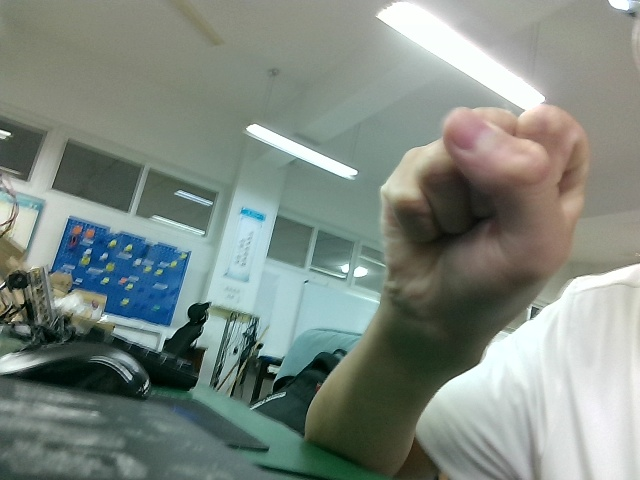stone: (368, 94, 600, 322)
